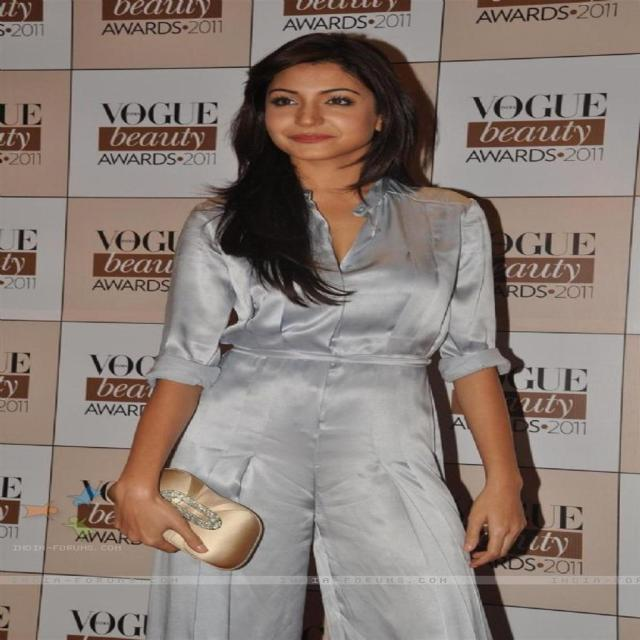Face: (254, 69, 409, 165)
